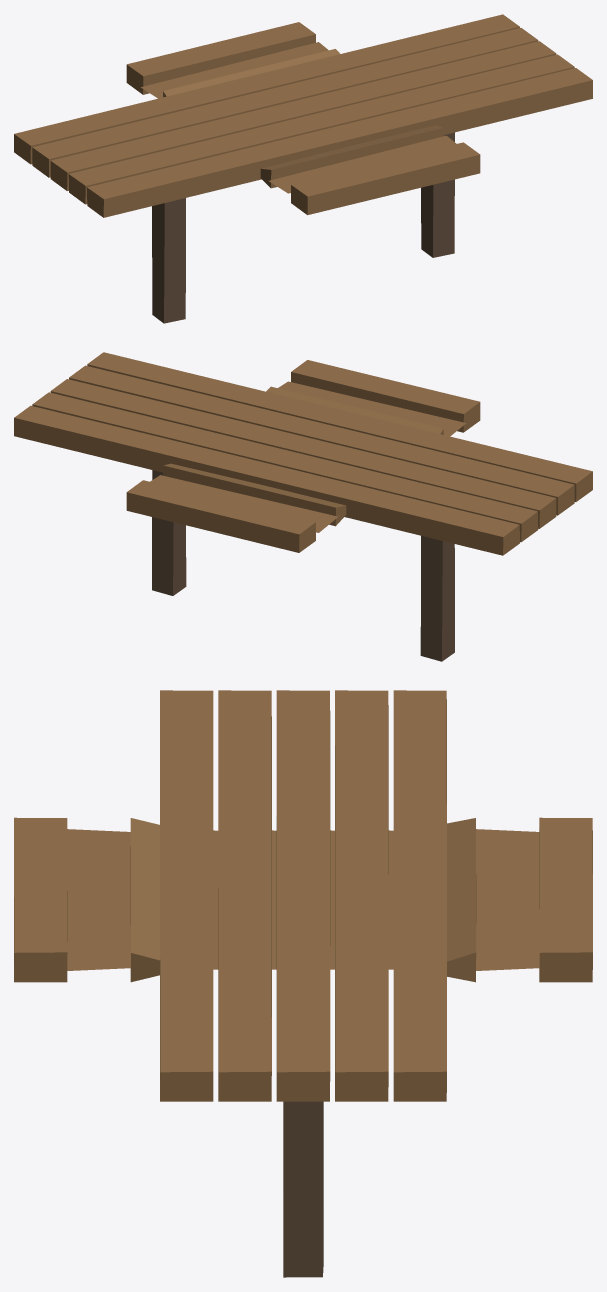
File: harbor-pier-cross.lod2.glb
3 renders of one model, top to bottom at view 1: azimuth 30°, elevation 25°; view 2: azimuth 150°, elevation 25°; view 3: azimuth 270°, elevation 25°, orthographic. The views are drawn at different scales.
Parts seen in each view (by area): view 1: harbor-pier-cross__body; view 2: harbor-pier-cross__body; view 3: harbor-pier-cross__body.
Part boxes in pixels (box(x1,y1,x2,y2)): harbor-pier-cross__body: box(14, 14, 592, 323); harbor-pier-cross__body: box(14, 352, 592, 661); harbor-pier-cross__body: box(14, 690, 592, 1277).
Bounding box in the file's own units: 3.09 × 1.07 × 1.98.
